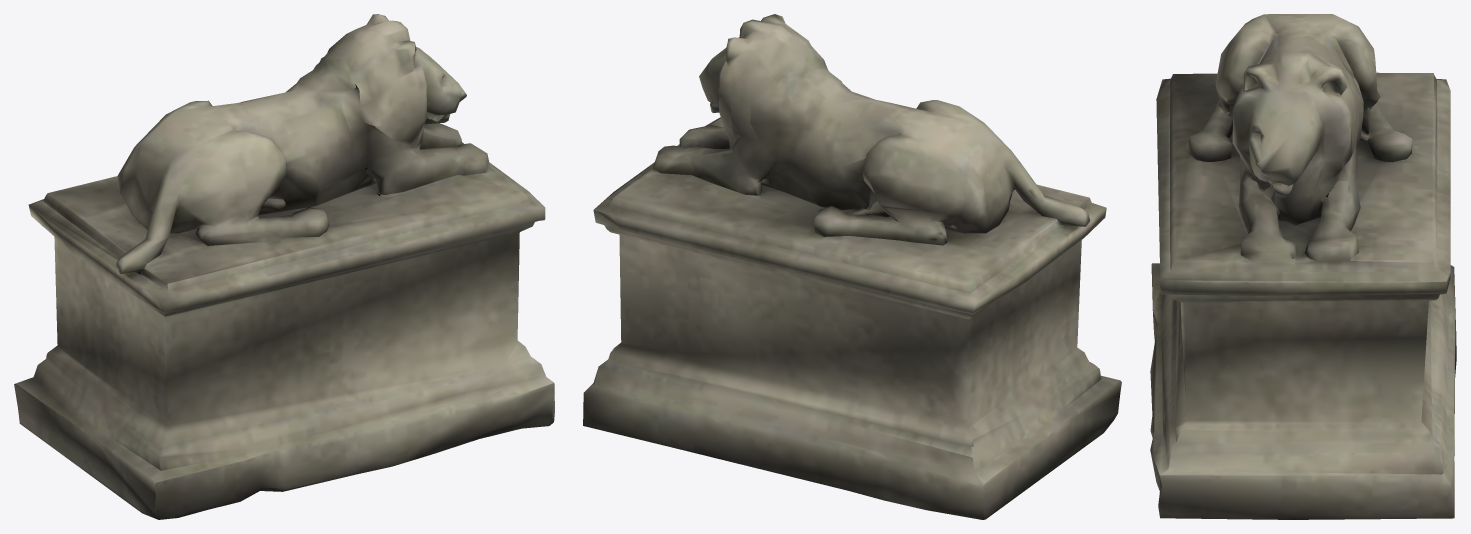
File: lion-statue-v001.glb
3 views of the same model, side by side, from view 1: azimuth 30°, elevation 25°; view 2: azimuth 150°, elevation 25°; view 3: azimuth 270°, elevation 25° (orthographic). The views are drawn at different scales.
Parts seen in each view (by area): view 1: lion-statue; view 2: lion-statue; view 3: lion-statue.
Part boxes in pixels (<box>): lion-statue: <box>14,14,554,519</box>; lion-statue: <box>583,14,1121,519</box>; lion-statue: <box>1150,14,1456,519</box>.
Bounding box in the file's own units: 1.11 × 0.9974 × 0.6762.
Materials: 1 (1 with a texture image).
